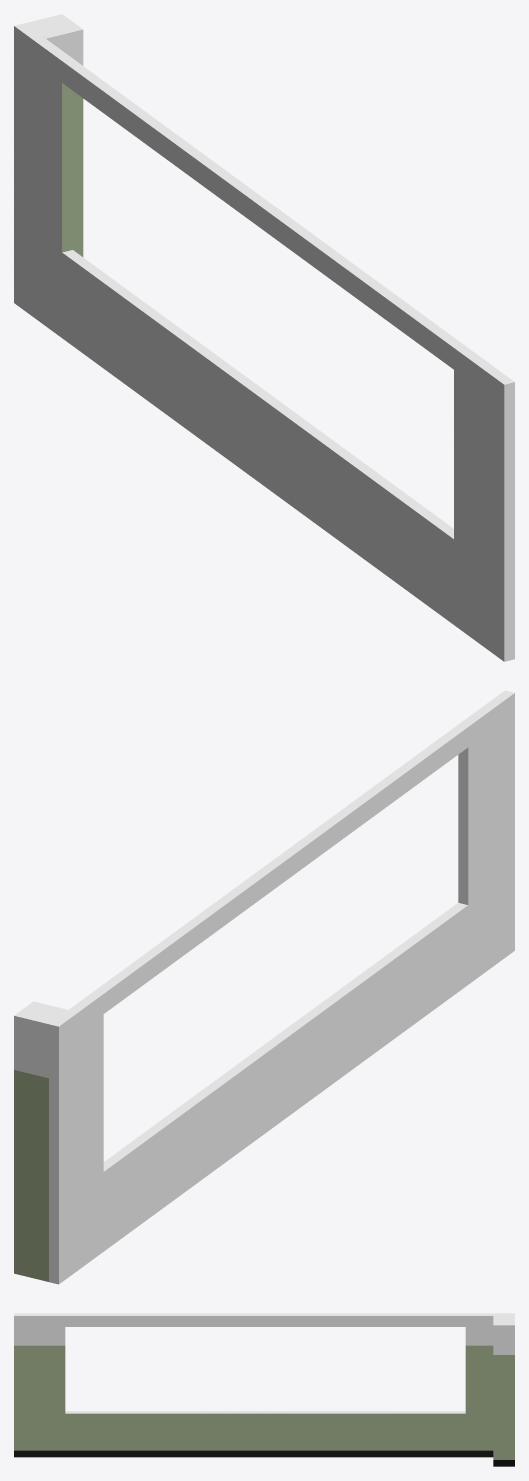
The model's file is Wall 4.FBX.
The picture shows the model from 3 angles, top to bottom: view 1: azimuth 30°, elevation 25°; view 2: azimuth 150°, elevation 25°; view 3: azimuth 270°, elevation 25°; orthographic projection. The views are drawn at different scales.
Visible parts, largest first — view 1: Wall 4; view 2: Wall 4; view 3: Wall 4.
Boxes of the visible parts, x1,y1,x2,y2 form: Wall 4: [14, 14, 514, 661]; Wall 4: [14, 690, 514, 1284]; Wall 4: [14, 1313, 514, 1466].
Bounding box in the file's own units: 673 × 3695 × 11847.
